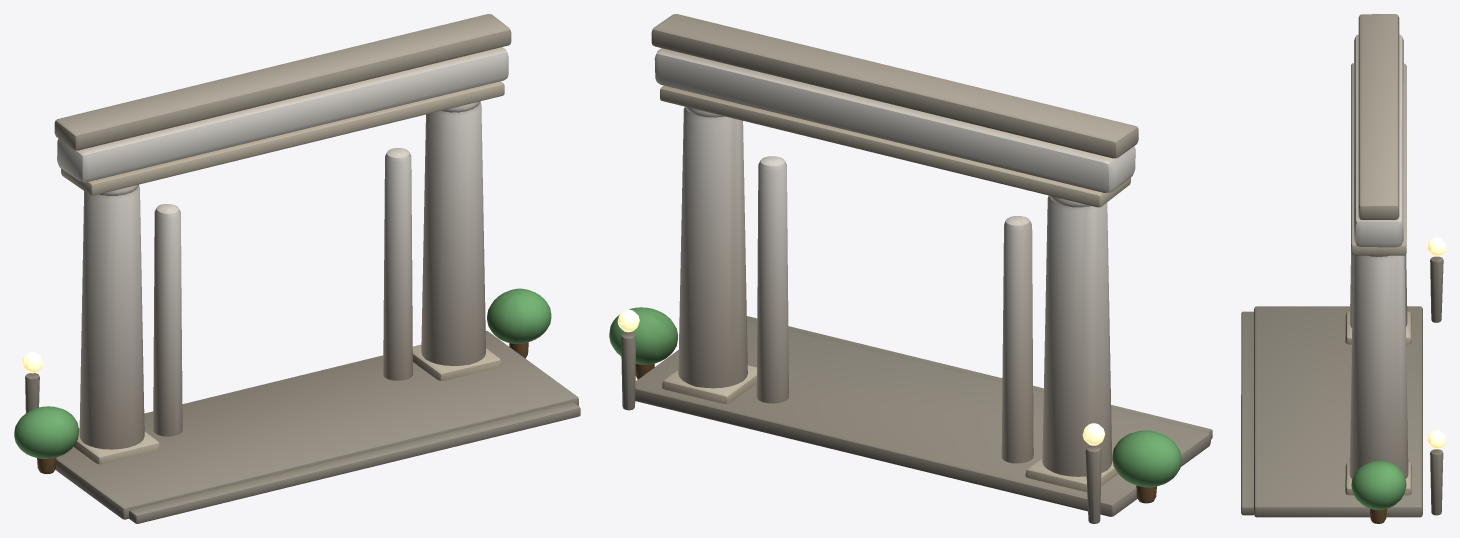
3 views of the same model, side by side, from view 1: azimuth 30°, elevation 25°; view 2: azimuth 150°, elevation 25°; view 3: azimuth 270°, elevation 25° (orthographic). The views are drawn at different scales.
Visible parts, largest first — view 1: gate_5cd3cead; view 2: gate_5cd3cead; view 3: gate_5cd3cead.
Part boxes in pixels (bbox=[...]): gate_5cd3cead: bbox=[14, 14, 580, 523]; gate_5cd3cead: bbox=[609, 14, 1212, 523]; gate_5cd3cead: bbox=[1241, 14, 1445, 523].
Size of the model in its own units: 6.89 by 4.25 by 2.55.
